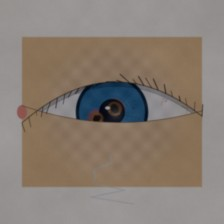foreign_body_visible: (90, 89, 139, 129)
